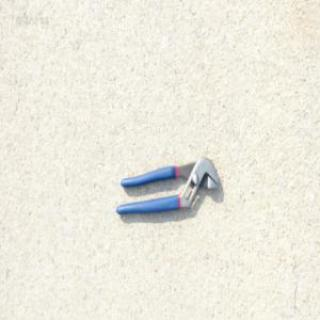Pliertrack_idkeyframe: (114, 155, 219, 215)
